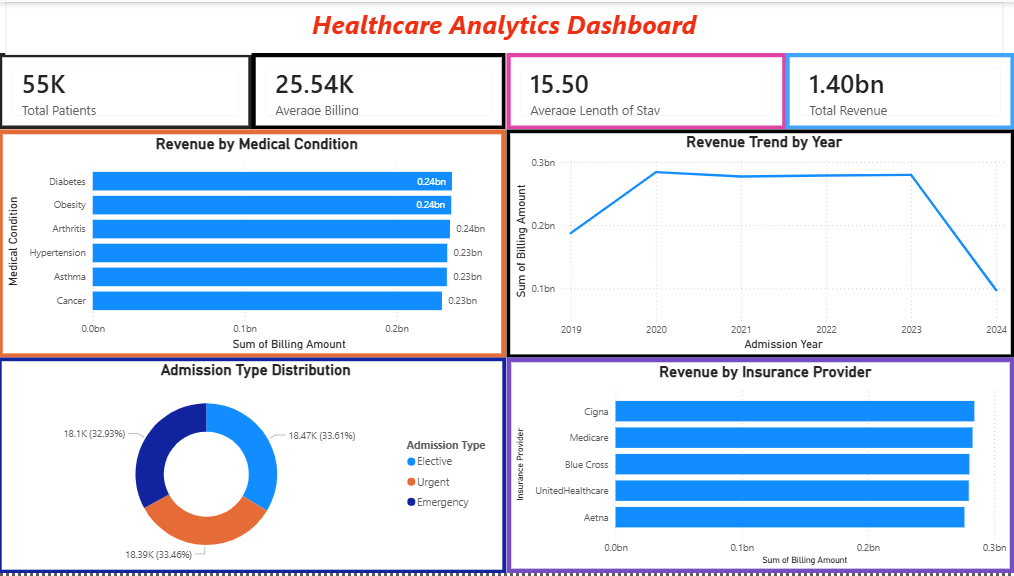

The dashboard page shown, as its layout file describes it:
{"tool":"powerbi","page":{"name":"Page 1","canvas":[1280,720],"ordinal":0},"visuals":[{"type":"cardVisual","fields":{"Data":["healthcare_cleaned.Total Patients"]},"box":[0,64,320,96],"z":0},{"type":"textbox","box":[9.4,0,1256.7,66.1],"z":1},{"type":"cardVisual","fields":{"Data":["healthcare_cleaned.Total Revenue (M)"]},"box":[992,64,288,96],"z":2},{"type":"cardVisual","fields":{"Data":["healthcare_cleaned.Average Billing"]},"box":[320,64,320,96],"z":3},{"type":"cardVisual","title":"Average Length of Stay (Days)","fields":{"Data":["healthcare_cleaned.Average Length of Stay"]},"box":[640,64,352,96],"z":4},{"type":"clusteredBarChart","title":"Revenue by Medical Condition","fields":{"Category":["healthcare_cleaned.Medical Condition"],"Y":["Sum(healthcare_cleaned.Billing Amount)"]},"box":[0,160,640,288],"z":5},{"type":"lineChart","title":"Revenue Trend by Year","fields":{"Category":["healthcare_cleaned.Admission Year"],"Y":["Sum(healthcare_cleaned.Billing Amount)"]},"box":[640,160,640,288],"z":6},{"type":"donutChart","title":"Admission Type Distribution","fields":{"Category":["healthcare_cleaned.Admission Type"],"Y":["CountNonNull(healthcare_cleaned.Name)"]},"box":[0,448,640,272],"z":7},{"type":"clusteredBarChart","title":"Revenue by Insurance Provider","fields":{"Category":["healthcare_cleaned.Insurance Provider"],"Y":["Sum(healthcare_cleaned.Billing Amount)"]},"box":[640,448,640,272],"z":8}]}

Visuals, with their boxes in screenshot pixels (x1, y1, x2, y2), scaled from the page's 1280x720 canvas onto the 1014x576 screenshot:
cardVisual - healthcare_cleaned.Total Patients: 0, 51, 254, 128
textbox: 7, 0, 1003, 53
cardVisual - healthcare_cleaned.Total Revenue (M): 786, 51, 1013, 128
cardVisual - healthcare_cleaned.Average Billing: 254, 51, 507, 128
"Average Length of Stay (Days)" cardVisual: 507, 51, 786, 128
"Revenue by Medical Condition" clusteredBarChart: 0, 128, 507, 358
"Revenue Trend by Year" lineChart: 507, 128, 1013, 358
"Admission Type Distribution" donutChart: 0, 358, 507, 575
"Revenue by Insurance Provider" clusteredBarChart: 507, 358, 1013, 575
